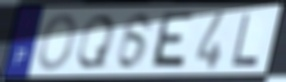4: (193, 8, 228, 72)
6: (115, 12, 155, 71)
E: (147, 10, 197, 71)
L: (230, 12, 261, 68)
O: (35, 12, 79, 72)
Q: (73, 13, 118, 70)
